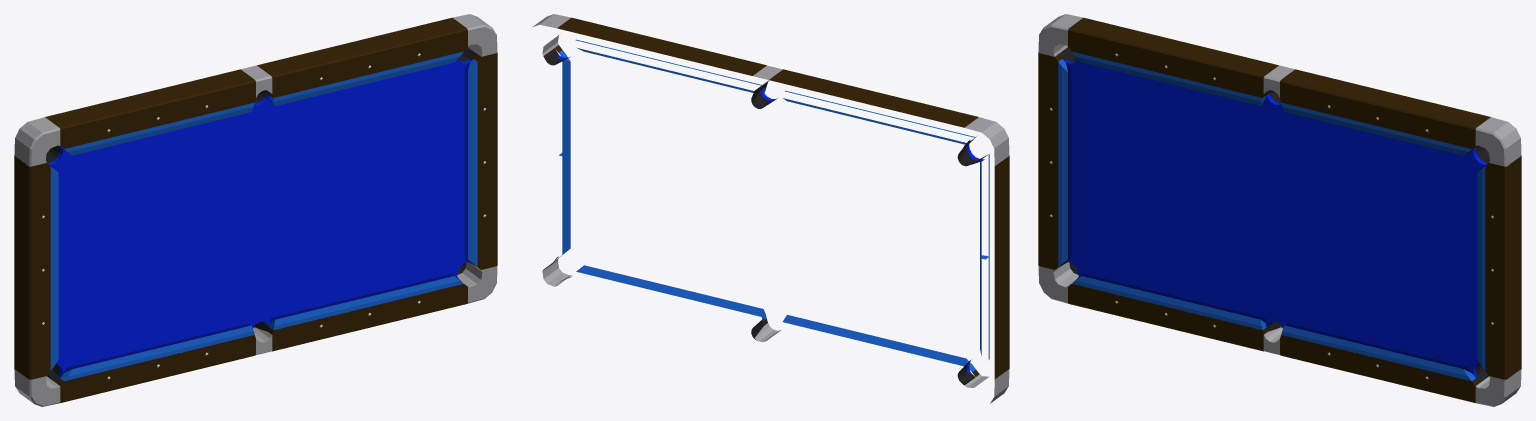
3 renders of one model, left to right at view 1: azimuth 30°, elevation 25°; view 2: azimuth 150°, elevation 25°; view 3: azimuth 330°, elevation 25°, orthographic.
Parts seen in each view (by area): view 1: FullCloth, SideRail, EndRail, SideCushion, CornerMetal, EndCushion, Cube, centercup.001; view 2: SideRail, SideCushion, EndRail, EndCushion, CornerMetal, centercup.001, Cube; view 3: FullCloth, SideRail, EndRail, SideCushion, CornerMetal, EndCushion, Cube, centercup.001.
Boxes of the visible parts, x1=… form: FullCloth: x1=48, y1=59, x2=471, y2=377; SideRail: x1=45, y1=17, x2=467, y2=402; EndRail: x1=14, y1=52, x2=497, y2=379; SideCushion: x1=60, y1=51, x2=463, y2=381; CornerMetal: x1=14, y1=14, x2=497, y2=406; EndCushion: x1=50, y1=59, x2=477, y2=370; Cube: x1=241, y1=65, x2=272, y2=354; centercup.001: x1=46, y1=47, x2=476, y2=382; SideRail: x1=557, y1=17, x2=979, y2=376; SideCushion: x1=575, y1=39, x2=975, y2=371; EndRail: x1=555, y1=45, x2=1009, y2=379; EndCushion: x1=559, y1=50, x2=989, y2=359; CornerMetal: x1=533, y1=14, x2=1009, y2=403; centercup.001: x1=543, y1=48, x2=987, y2=385; Cube: x1=753, y1=65, x2=782, y2=342; FullCloth: x1=1064, y1=59, x2=1487, y2=377; SideRail: x1=1068, y1=17, x2=1490, y2=402; EndRail: x1=1038, y1=52, x2=1521, y2=379; SideCushion: x1=1072, y1=51, x2=1475, y2=381; CornerMetal: x1=1038, y1=14, x2=1521, y2=406; EndCushion: x1=1058, y1=59, x2=1485, y2=370; Cube: x1=1263, y1=65, x2=1294, y2=354; centercup.001: x1=1059, y1=47, x2=1489, y2=382.
Size of the model in its own units: 50.25 by 28.25 by 3.4.
